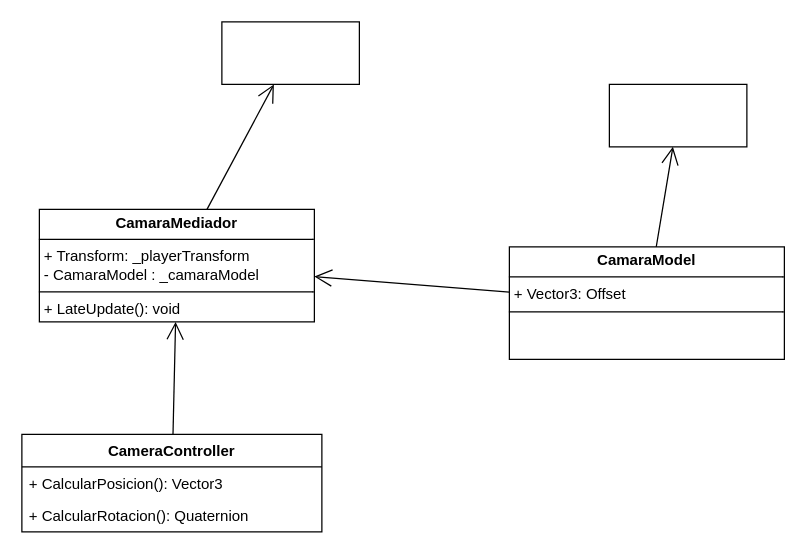
The diagram is 806 pixels wide and 558 high, and some of its shapes have lost their labels. The shapes that lost their labels are listed below. From the top down, each one's centre as x and y in pixels, then its label:
At [290,52]: "MonoBehaviour".
At [677,115]: "ScripteableObject".
